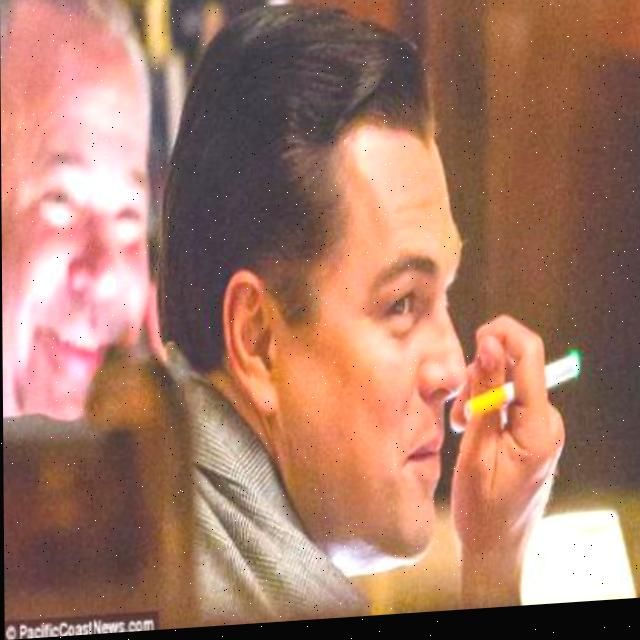cigarette: (463, 362, 584, 437)
